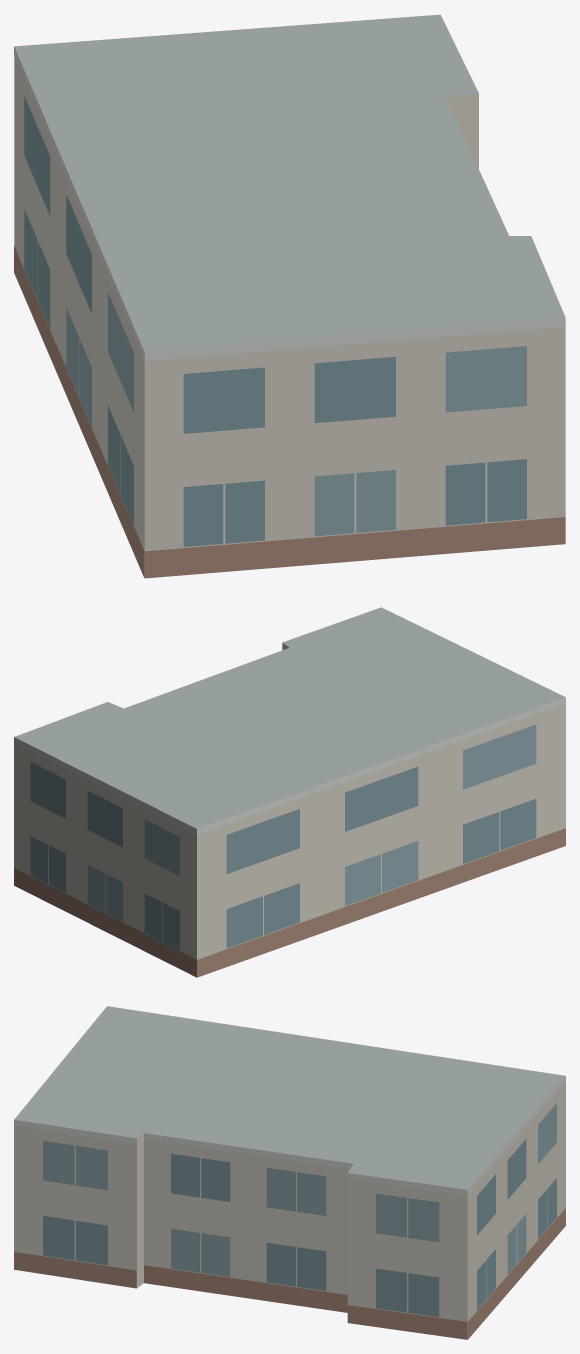
Rendered from survey-upis-32920014.glb.
The picture shows the model from 3 angles, top to bottom: view 1: azimuth 30°, elevation 25°; view 2: azimuth 150°, elevation 25°; view 3: azimuth 270°, elevation 25°; orthographic projection. The views are drawn at different scales.
Parts seen in each view (by area): view 1: survey-upis-32920014.tmp; view 2: survey-upis-32920014.tmp; view 3: survey-upis-32920014.tmp.
Boxes of the visible parts, x1,y1,x2,y2 form: survey-upis-32920014.tmp: [14, 14, 565, 578]; survey-upis-32920014.tmp: [14, 607, 565, 977]; survey-upis-32920014.tmp: [14, 1006, 565, 1339].
Size of the model in its own units: 16.04 by 6.1 by 20.34.
